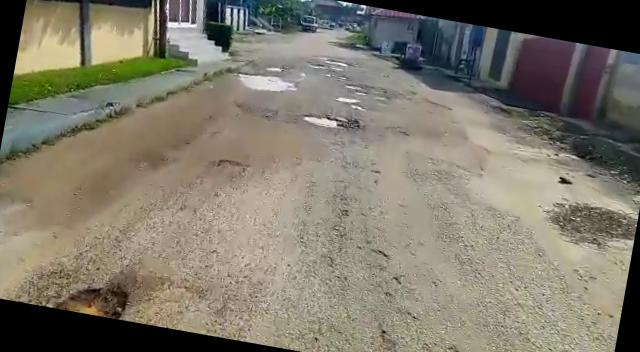pothole: (44, 274, 135, 320), (236, 68, 294, 94), (298, 109, 348, 129), (343, 83, 370, 95), (334, 94, 361, 105)
